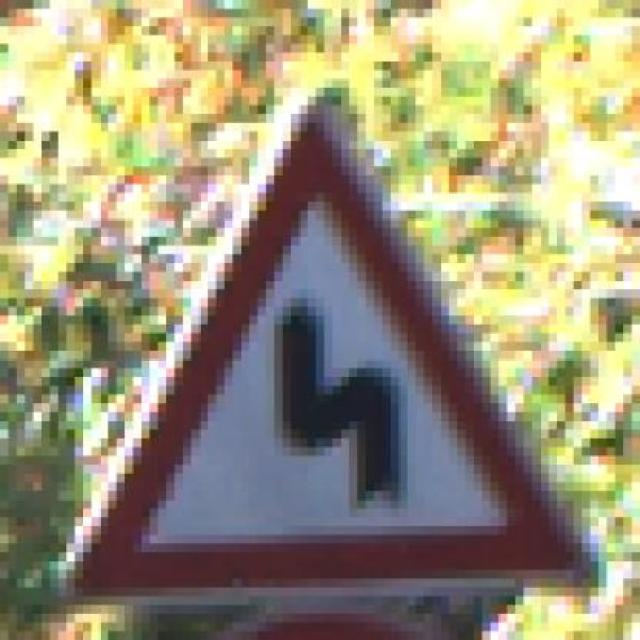Left Zig Zag Traffic: (42, 106, 616, 596)
